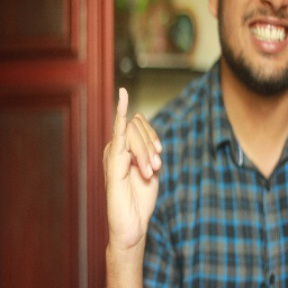I: (102, 87, 163, 244)
